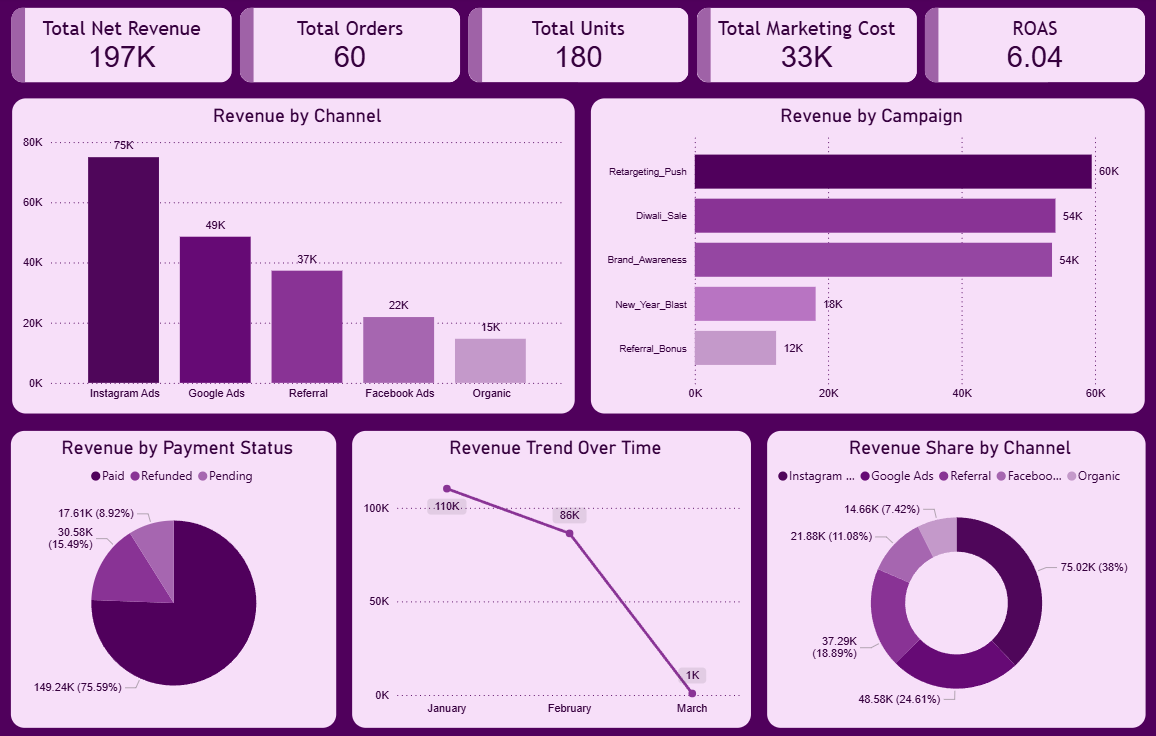

This screenshot's page, from the dashboard's own definition file:
{"tool":"powerbi","page":{"name":"marketing_campaign_performance_dashboard","canvas":[1280,820],"ordinal":0},"visuals":[{"type":"cardVisual","fields":{"Data":["Marketing_Finance_Project_clean.TotalNetRevenue","Marketing_Finance_Project_clean.TotalOrders","Marketing_Finance_Project_clean.TotalUnits","Marketing_Finance_Project_clean.TotalMarketingCost","Marketing_Finance_Project_clean.ROAS"]},"box":[4.1,0,1273.7,108.5],"z":0},{"type":"clusteredColumnChart","fields":{"Y":["Marketing_Finance_Project_clean.TotalNetRevenue"],"Category":["Marketing_Finance_Project_clean.Channel"]},"box":[13.7,108.5,626.5,354.5],"z":1000},{"type":"clusteredBarChart","fields":{"Category":["Marketing_Finance_Project_clean.Campaign"],"Y":["Marketing_Finance_Project_clean.TotalNetRevenue"]},"box":[649.9,108.5,616.9,354.5],"z":2000},{"type":"donutChart","fields":{"Category":["Marketing_Finance_Project_clean.Channel"],"Y":["Marketing_Finance_Project_clean.TotalNetRevenue"]},"box":[843.6,473.6,423.9,334.6],"z":3000},{"type":"pieChart","fields":{"Category":["Marketing_Finance_Project_clean.PaymentStatus"],"Y":["Marketing_Finance_Project_clean.TotalNetRevenue"]},"box":[12.8,473.6,365.8,334.6],"z":4000},{"type":"lineChart","title":"Revenue Trend Over Time","fields":{"Category":["Marketing_Finance_Project_clean.OrderDate.Variation.Date Hierarchy.Month"],"Y":["Marketing_Finance_Project_clean.TotalNetRevenue"]},"box":[387.1,473.6,446.6,334.6],"z":5000}]}

Visuals, with their boxes in screenshot pixels (x1, y1, x2, y2), scaled from the page's 1280x820 canvas onto the 1156x736 screenshot:
cardVisual - Marketing_Finance_Project_clean.TotalNetRevenue x Marketing_Finance_Project_clean.TotalOrders: x1=4, y1=0, x2=1154, y2=97
clusteredColumnChart - Marketing_Finance_Project_clean.TotalNetRevenue x Marketing_Finance_Project_clean.Channel: x1=12, y1=97, x2=578, y2=416
clusteredBarChart - Marketing_Finance_Project_clean.Campaign x Marketing_Finance_Project_clean.TotalNetRevenue: x1=587, y1=97, x2=1144, y2=416
donutChart - Marketing_Finance_Project_clean.Channel x Marketing_Finance_Project_clean.TotalNetRevenue: x1=762, y1=425, x2=1145, y2=725
pieChart - Marketing_Finance_Project_clean.PaymentStatus x Marketing_Finance_Project_clean.TotalNetRevenue: x1=12, y1=425, x2=342, y2=725
"Revenue Trend Over Time" lineChart: x1=350, y1=425, x2=753, y2=725
